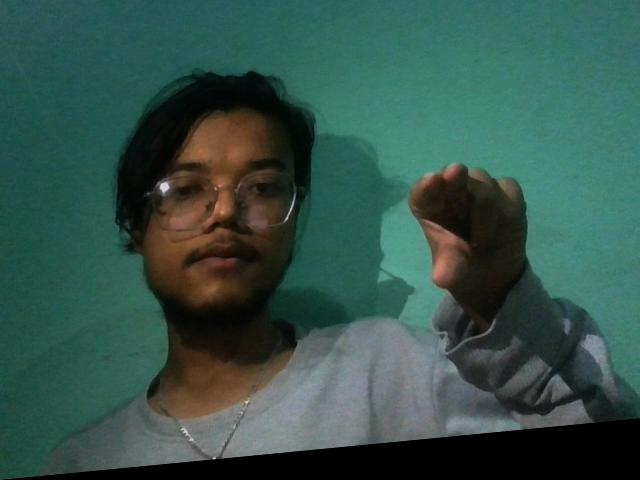No: (388, 143, 559, 328)
